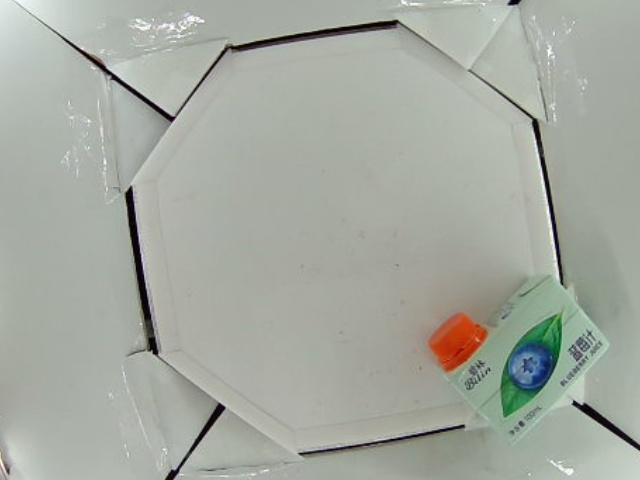Bottle: (434, 274, 607, 430)
